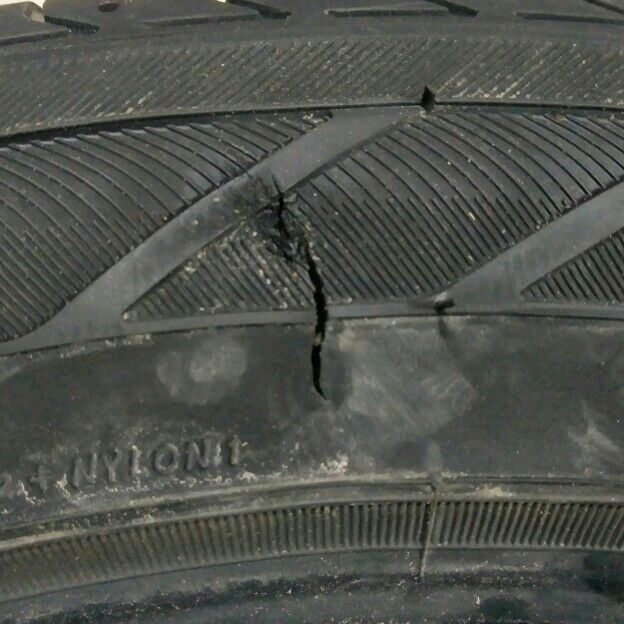cut: (268, 174, 330, 406)
